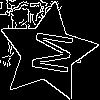M: (22, 27, 74, 76)
